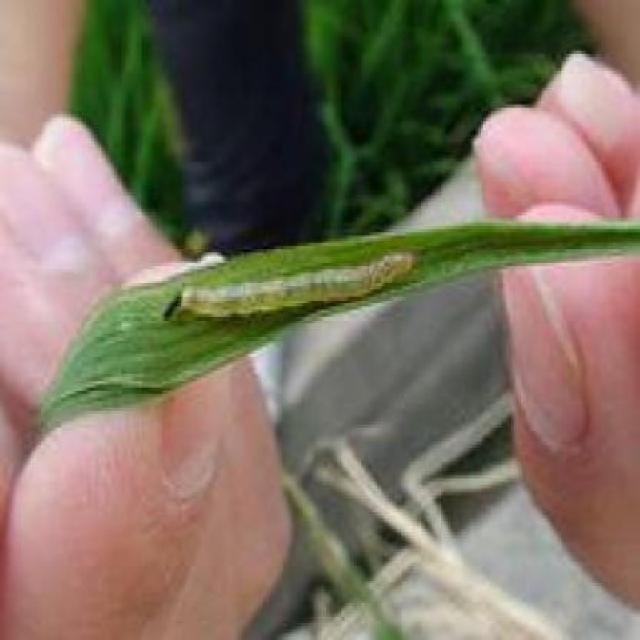leaf-folder: (127, 234, 505, 331)
